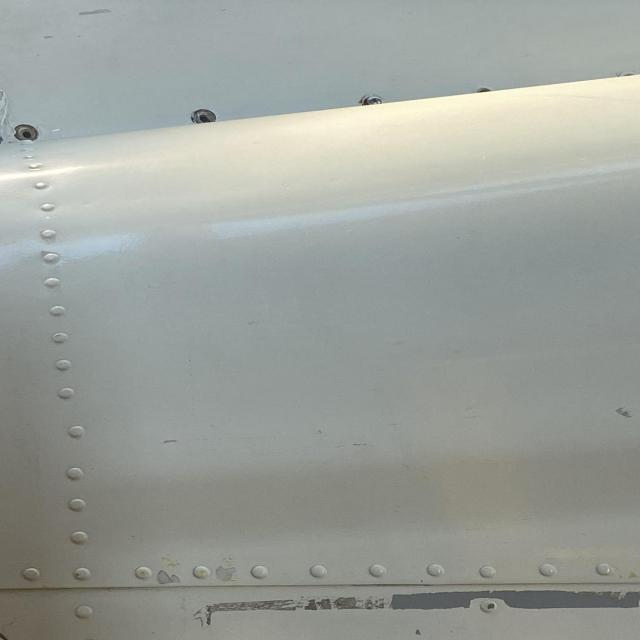Paint-off: (602, 397, 640, 424), (71, 7, 114, 19)
